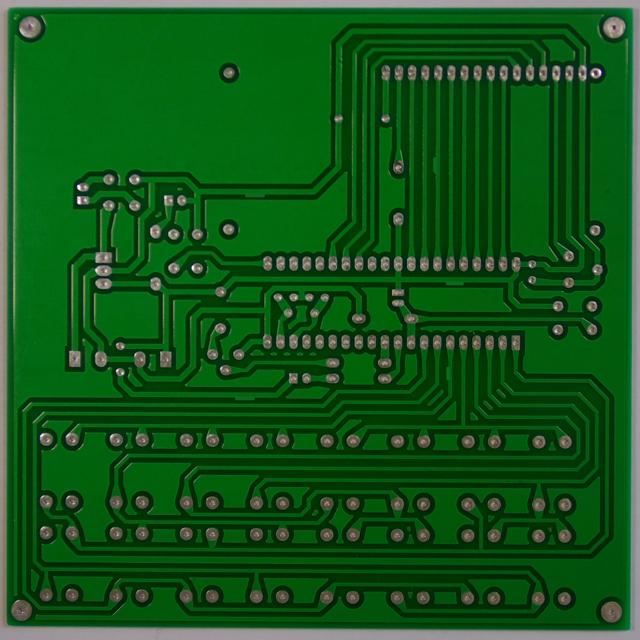spur: (427, 151, 445, 178), (240, 185, 270, 200), (439, 273, 468, 288), (231, 389, 259, 403), (441, 362, 454, 382)
